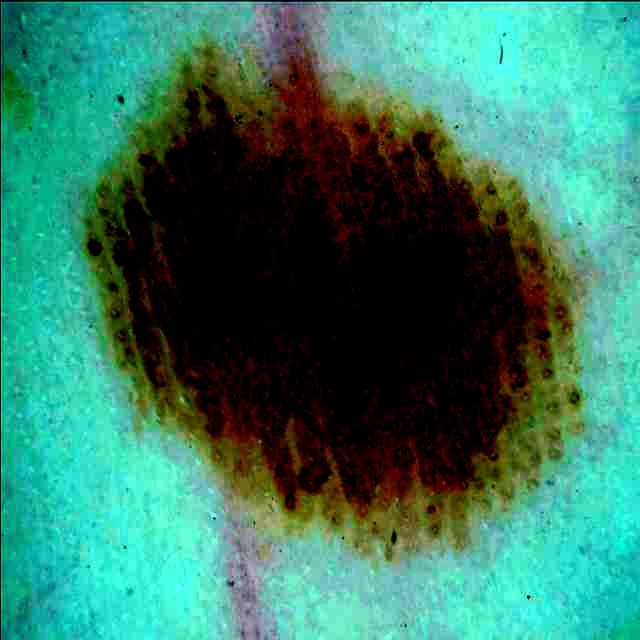MEL: (100, 82, 555, 498)
